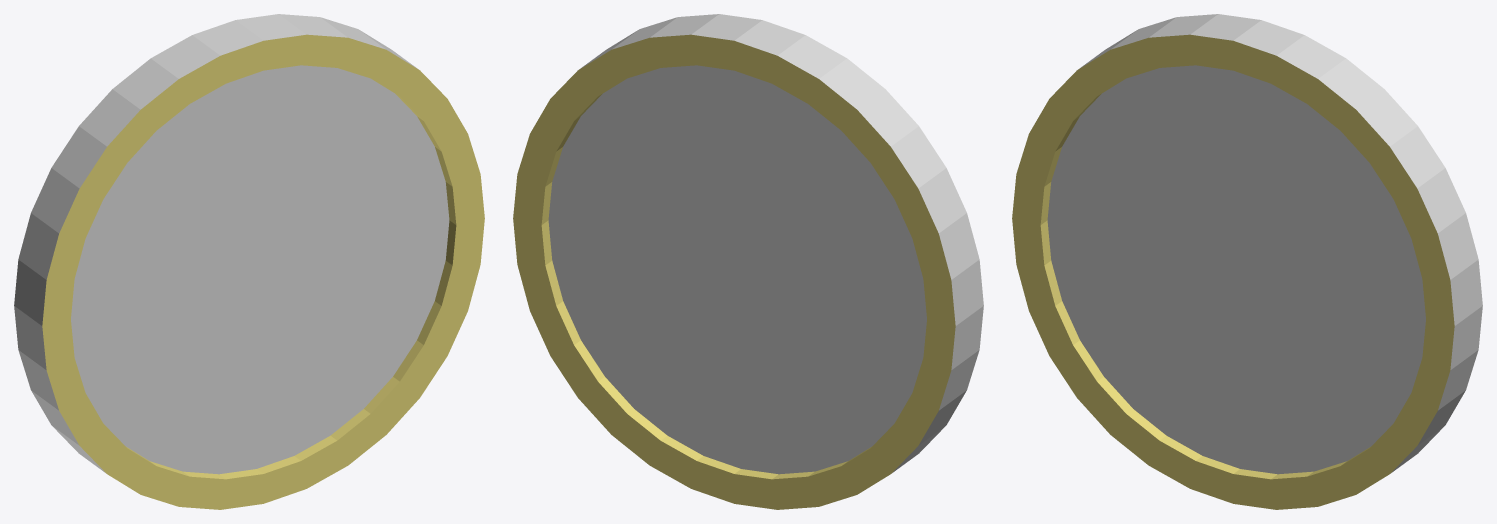
File: Gold.fbx
The picture shows the model from 3 angles, left to right: view 1: azimuth 30°, elevation 25°; view 2: azimuth 150°, elevation 25°; view 3: azimuth 330°, elevation 25°; orthographic projection.
Visible parts, largest first — view 1: Cylinder; view 2: Cylinder; view 3: Cylinder.
Boxes of the visible parts, <box> form: Cylinder: <box>14,14,484,509</box>; Cylinder: <box>513,14,983,509</box>; Cylinder: <box>1012,14,1482,509</box>.
Bounding box in the file's own units: 59.25 × 59.25 × 6.55.
